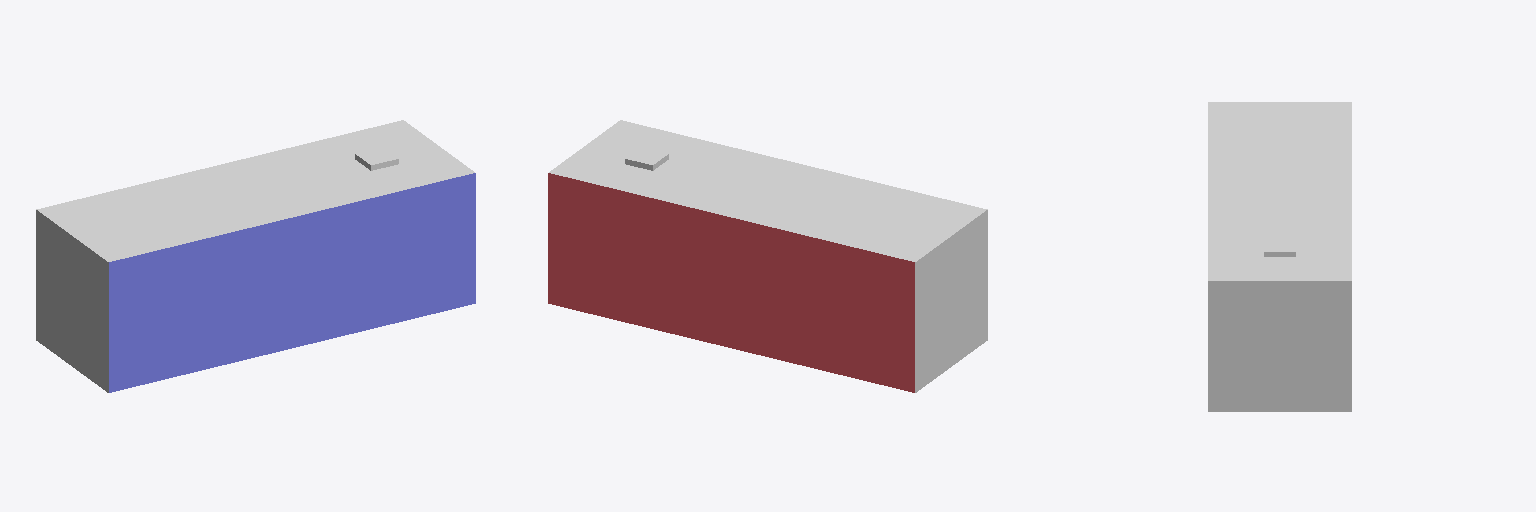
The model's file is cornell_dragon.obj.
The picture shows the model from 3 angles: view 1: azimuth 30°, elevation 25°; view 2: azimuth 150°, elevation 25°; view 3: azimuth 270°, elevation 25°; orthographic projection.
Parts seen in each view (by area): view 1: Cube_Cube.002, Cube.001_Cube.003; view 2: Cube_Cube.002, Cube.001_Cube.003; view 3: Cube_Cube.002, Cube.001_Cube.003.
Part boxes in pixels (x1,y1,x2,y2): Cube_Cube.002: (36, 120, 475, 392); Cube.001_Cube.003: (355, 147, 398, 170); Cube_Cube.002: (548, 120, 987, 392); Cube.001_Cube.003: (625, 147, 668, 170); Cube_Cube.002: (1208, 102, 1351, 411); Cube.001_Cube.003: (1264, 238, 1295, 256).
Size of the model in its own units: 53.23 by 19.49 by 18.13.